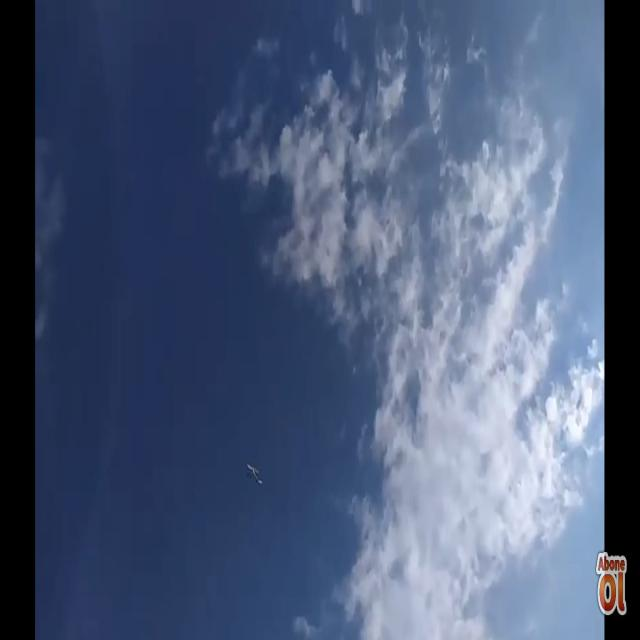iha: (246, 463, 262, 485)
